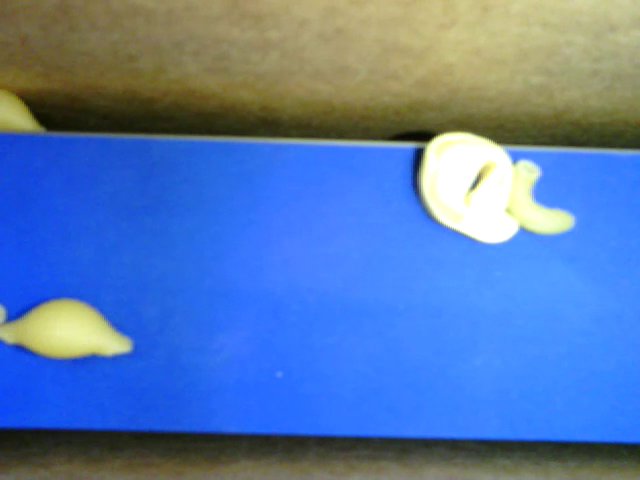elbow: (509, 157, 579, 235)
shell: (1, 294, 135, 359), (1, 89, 53, 132)
tortellini: (418, 131, 522, 244)
